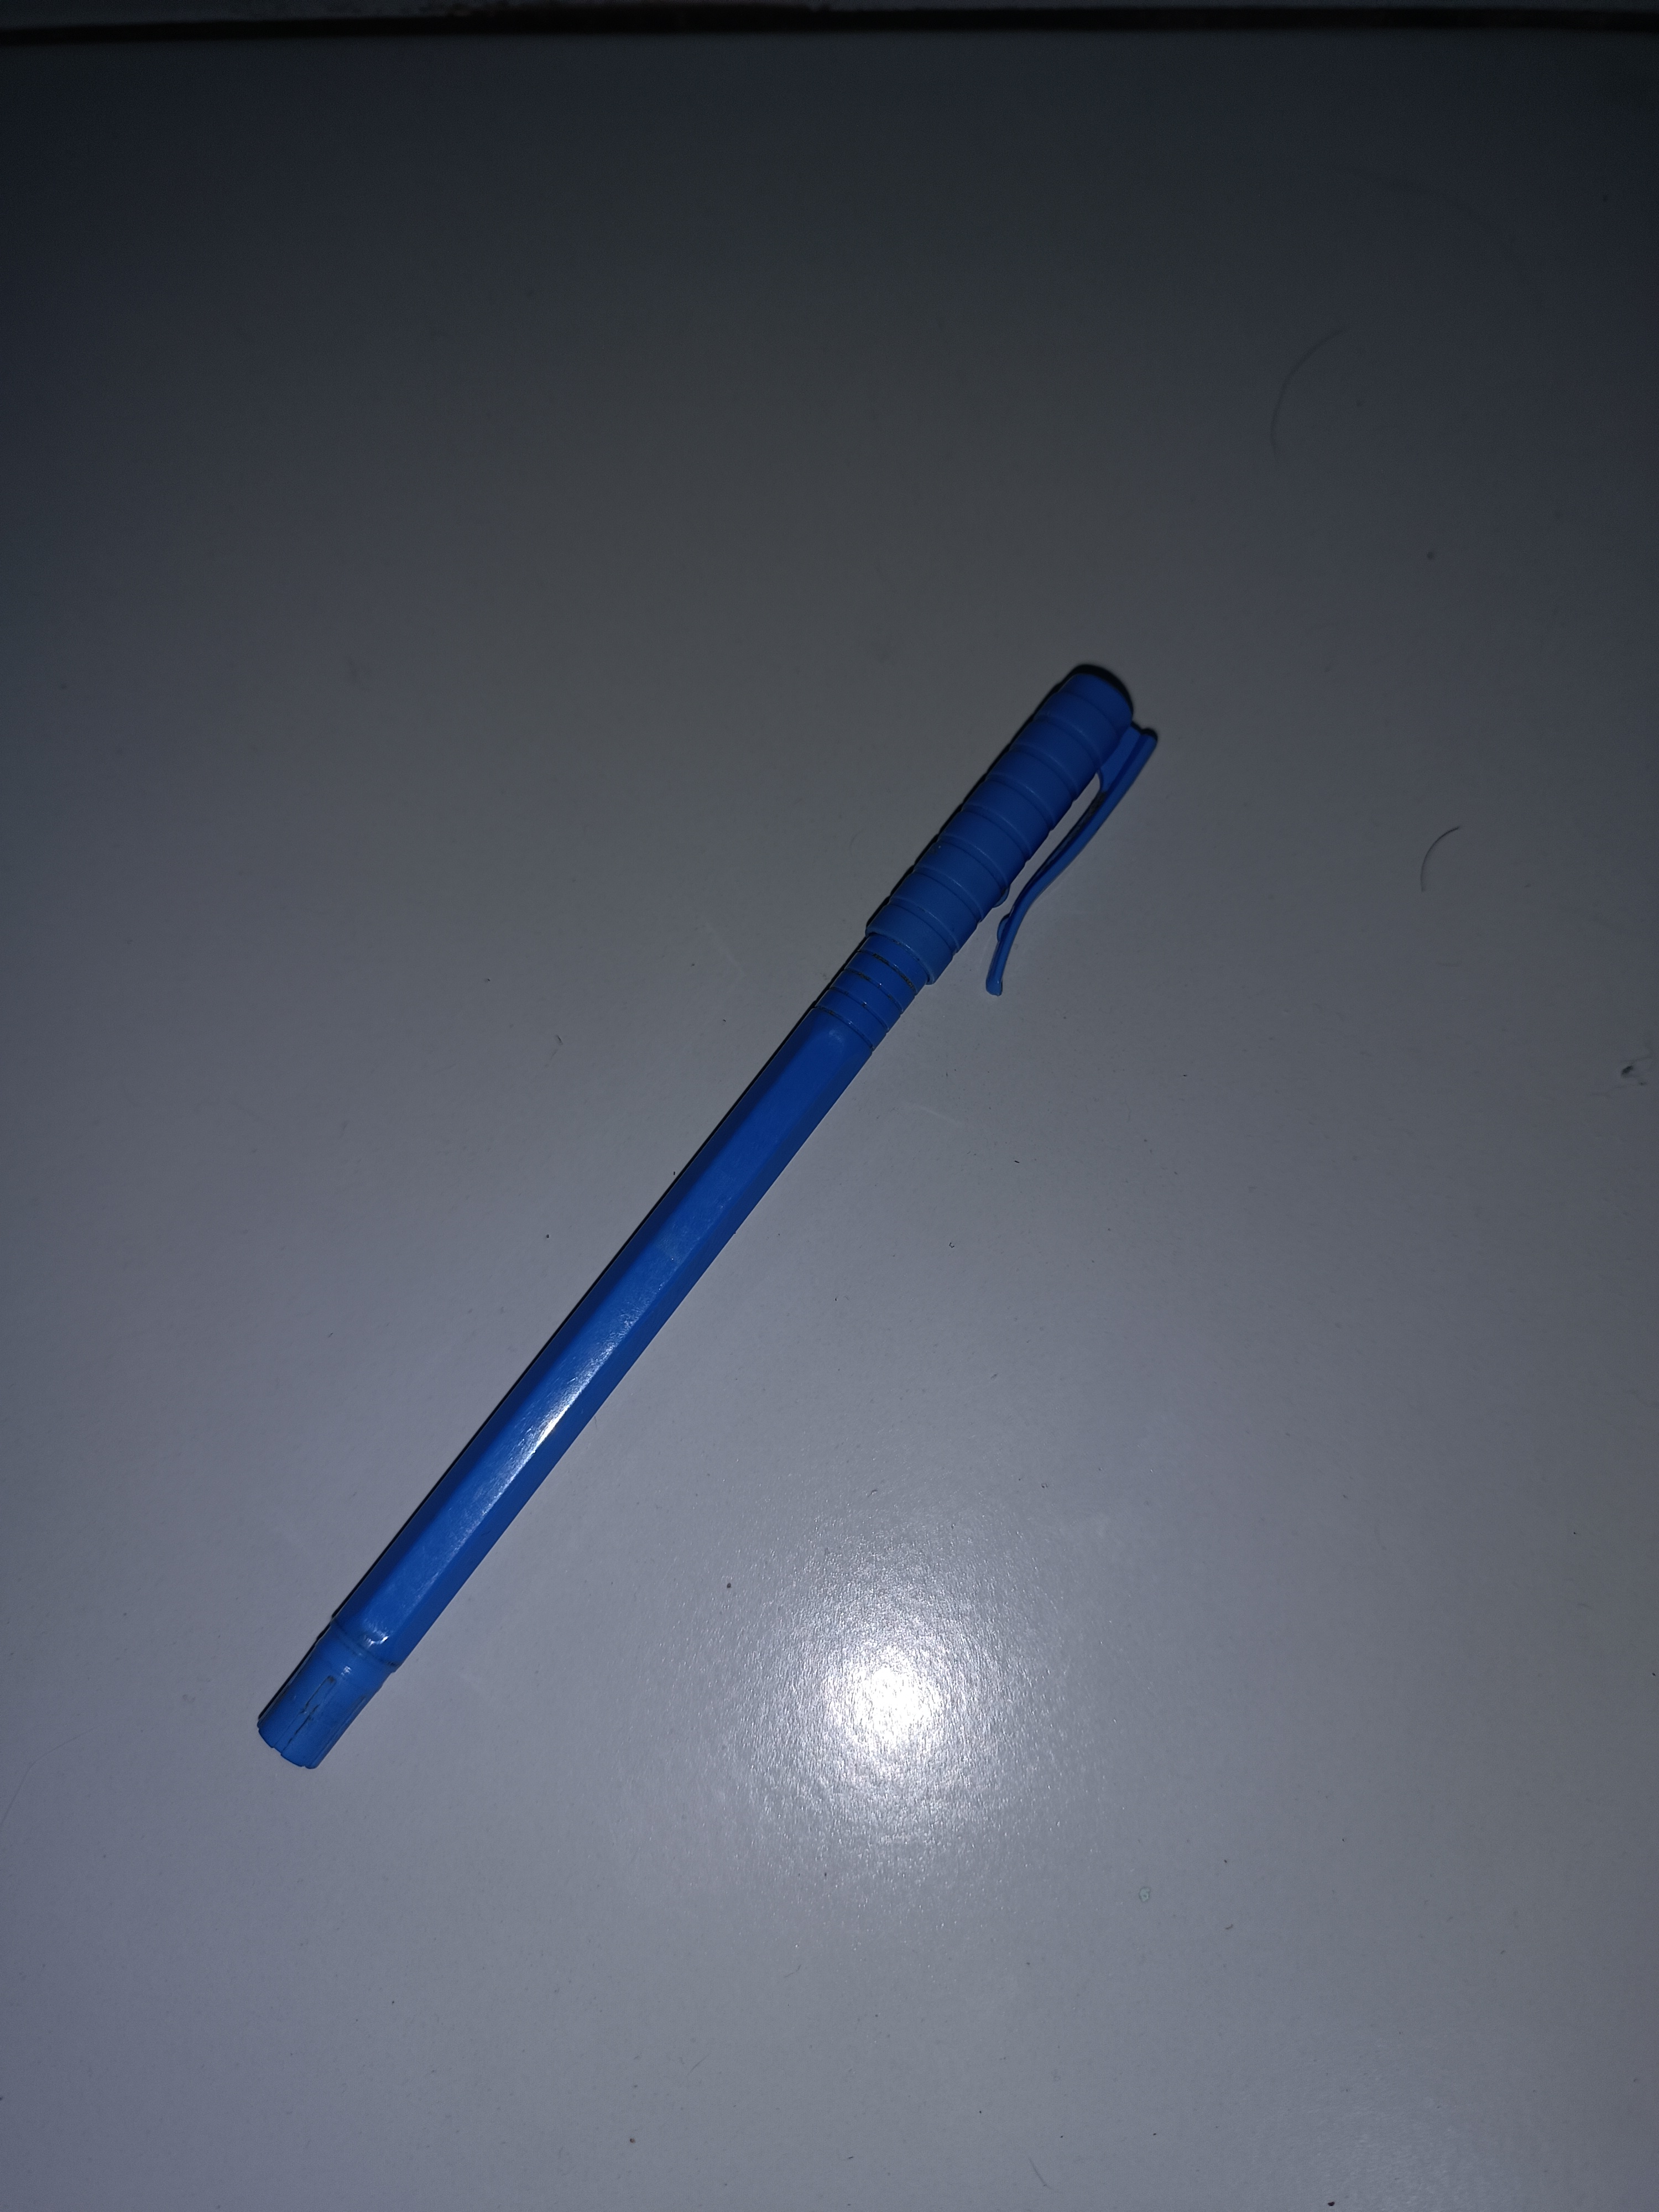Pen: (85, 590, 1206, 1885)
